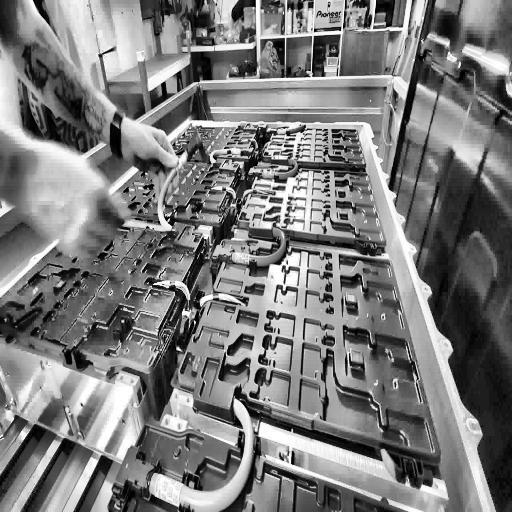high_volt_cable: (114, 384, 261, 512), (154, 134, 210, 234), (214, 222, 289, 272), (251, 152, 302, 182)
